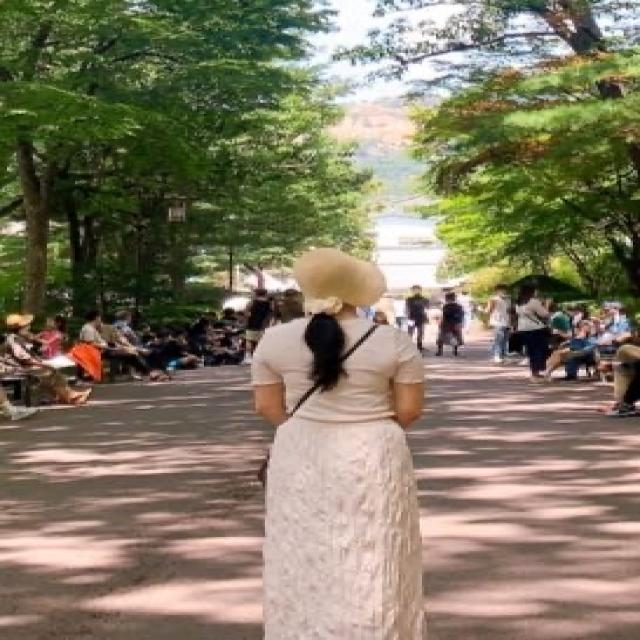shortsleeve: (248, 312, 426, 423)
skirt: (264, 421, 426, 640)
